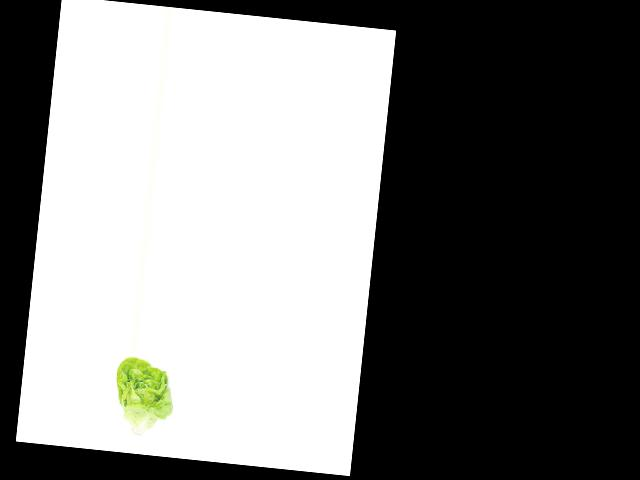lettuce: (108, 355, 181, 441)
